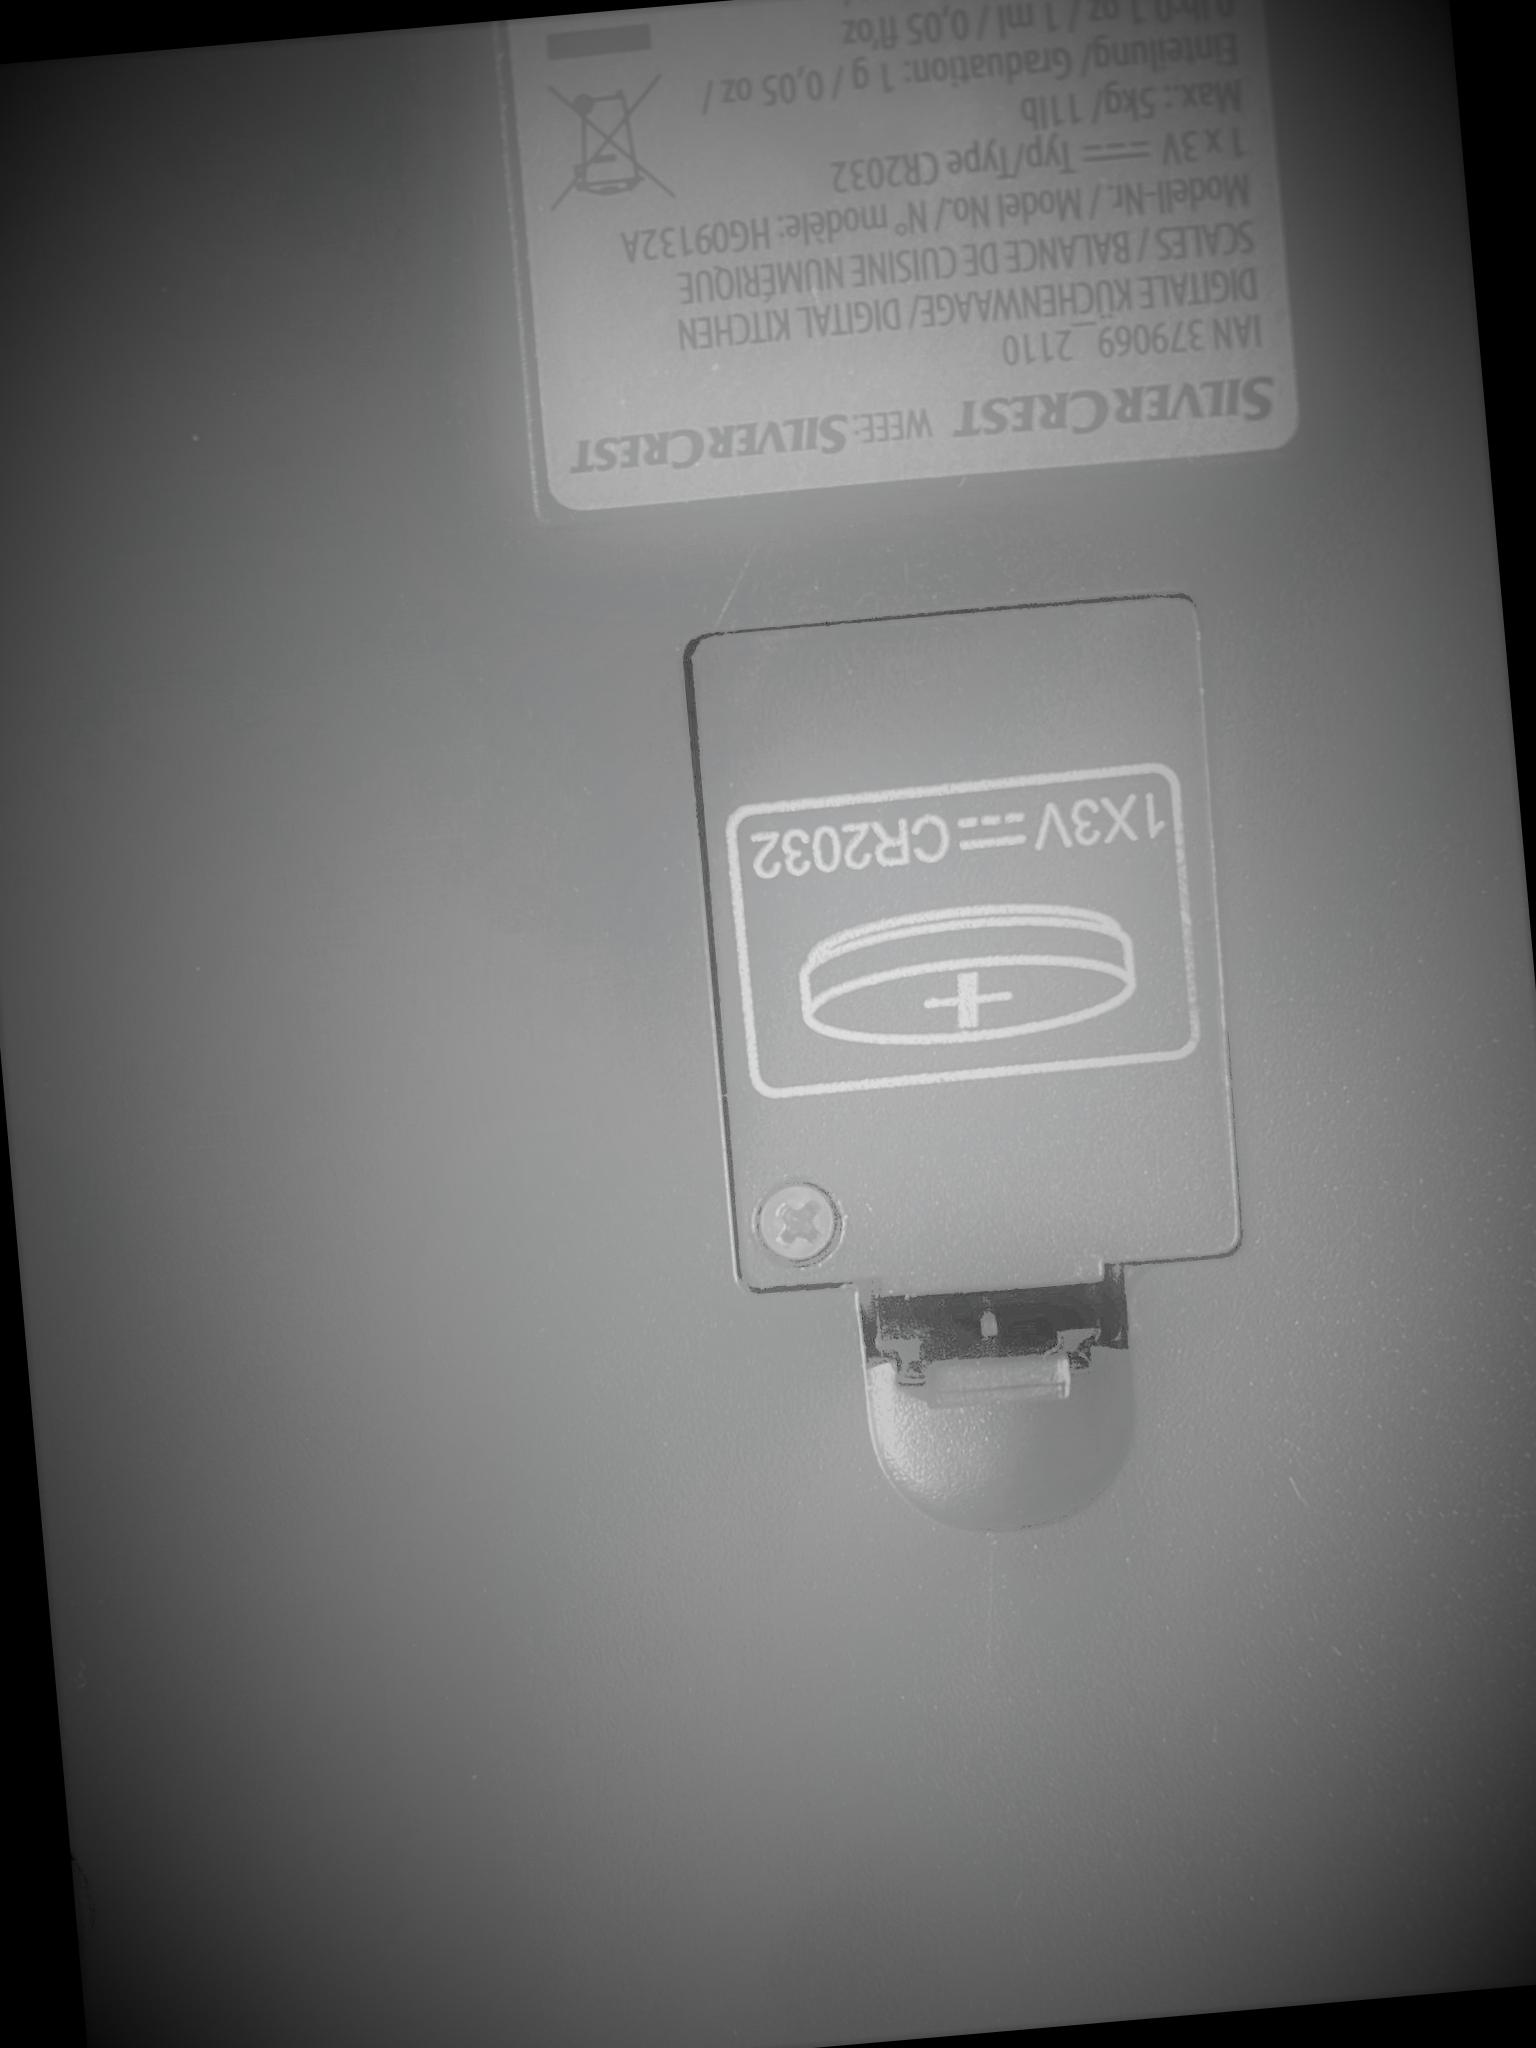PH: (752, 1179, 841, 1266)
